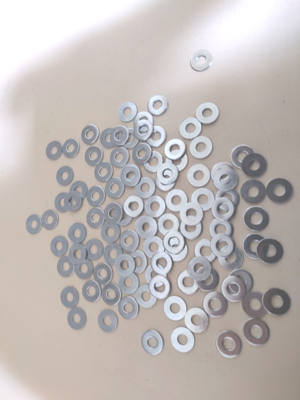circle: (263, 289, 291, 316), (216, 331, 243, 358), (243, 319, 270, 346), (257, 239, 284, 265), (221, 276, 247, 303), (242, 292, 269, 318), (243, 234, 269, 260), (185, 307, 210, 333), (229, 269, 254, 295), (203, 292, 228, 318), (172, 327, 196, 354), (267, 179, 293, 203), (244, 207, 270, 231), (241, 180, 266, 204), (214, 168, 239, 192), (164, 296, 188, 321), (188, 257, 212, 282), (195, 267, 219, 292), (211, 234, 235, 259), (219, 246, 244, 270), (141, 330, 164, 356), (192, 188, 216, 212), (243, 154, 267, 178), (232, 146, 256, 170), (210, 217, 234, 241), (164, 239, 189, 262), (190, 136, 214, 159), (149, 275, 172, 299), (212, 198, 236, 221), (216, 189, 240, 212), (188, 164, 211, 187), (150, 252, 173, 275), (212, 162, 234, 186), (195, 239, 217, 263), (178, 270, 199, 295), (181, 203, 204, 225), (136, 216, 158, 239), (144, 236, 166, 259), (137, 285, 159, 308), (196, 103, 220, 124), (191, 50, 213, 72), (180, 118, 202, 140), (157, 163, 179, 185), (167, 190, 189, 212), (158, 214, 180, 236), (166, 150, 189, 171), (181, 216, 202, 239), (118, 297, 139, 320), (127, 251, 148, 274), (124, 196, 145, 218), (145, 196, 166, 218), (115, 254, 136, 276), (98, 310, 118, 333), (148, 95, 169, 116), (164, 139, 185, 160), (93, 264, 114, 285), (84, 239, 104, 261), (106, 177, 126, 199), (120, 230, 140, 252), (110, 147, 130, 168), (118, 102, 138, 123), (134, 120, 154, 141), (133, 143, 153, 164), (156, 170, 176, 191), (136, 177, 156, 198), (74, 259, 94, 280), (147, 127, 168, 147), (144, 152, 164, 173), (119, 273, 139, 294), (68, 308, 87, 330), (83, 281, 102, 303), (102, 284, 121, 306), (133, 112, 153, 132), (121, 128, 140, 149), (87, 186, 106, 207), (104, 203, 123, 224), (104, 244, 123, 265), (69, 244, 87, 266), (61, 287, 79, 309), (100, 128, 119, 148), (110, 126, 129, 146), (114, 206, 133, 226), (121, 167, 141, 186), (121, 164, 140, 184), (101, 224, 121, 243), (95, 162, 113, 183), (87, 208, 105, 229), (82, 125, 100, 145), (56, 166, 74, 186), (85, 146, 103, 166), (55, 193, 73, 213), (65, 192, 83, 212), (69, 223, 87, 243), (51, 237, 69, 257), (58, 256, 75, 277), (63, 139, 80, 159), (70, 181, 87, 201), (42, 210, 59, 229), (46, 141, 63, 160), (26, 215, 41, 235)
